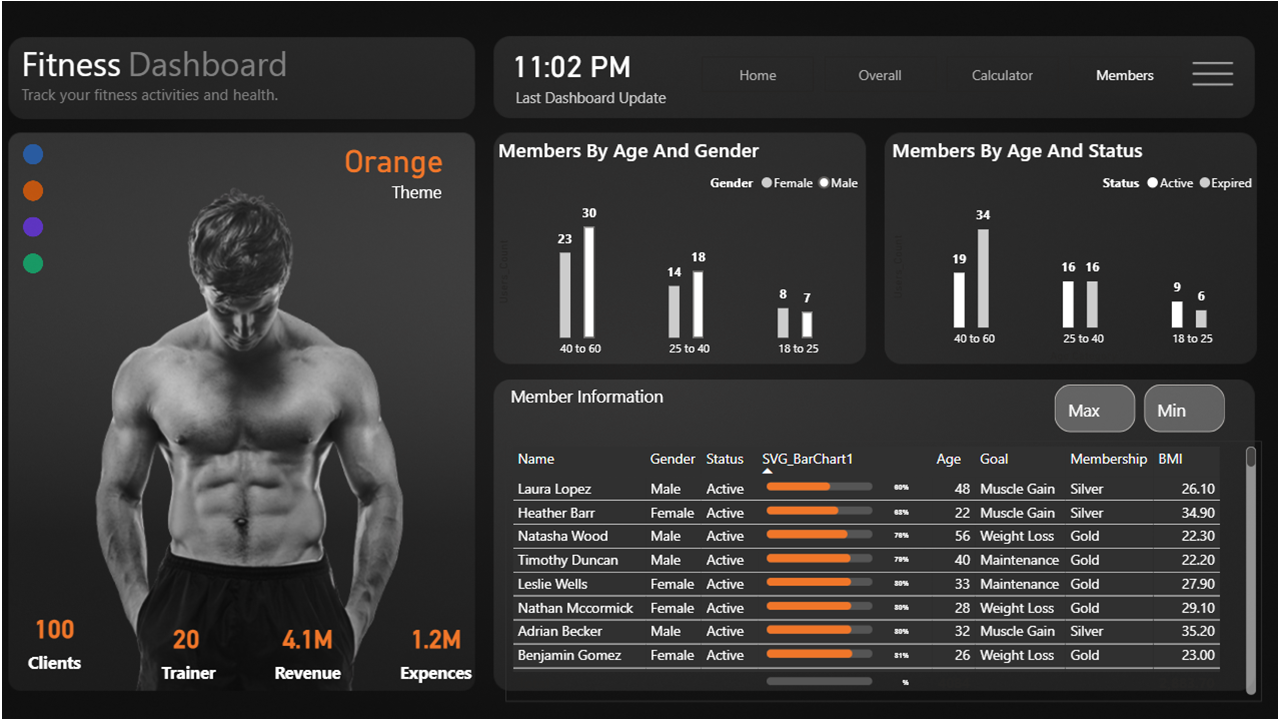

The page's visual inventory and layout, read from the dashboard file:
{"tool":"powerbi","page":{"name":"Members","canvas":[1280,720],"ordinal":3},"visuals":[{"type":"image","box":[1148.5,53.1,112.2,49.5],"z":0},{"type":"textbox","box":[526,85.7,281.1,31.4],"z":1000},{"type":"pageNavigator","box":[710.6,60.3,462.1,35],"z":2000},{"type":"textbox","box":[49.5,39.8,115.8,54.3],"z":3000},{"type":"textbox","box":[152,39.8,199.1,54.3],"z":4000},{"type":"textbox","box":[49.5,62.7,644.2,54.3],"z":5000},{"type":"card","fields":{"Values":["ColorCodes.Last_Refresh"]},"box":[521.2,42.2,127.9,51.9],"z":6000},{"type":"tableEx","title":"Client Membership","fields":{"Values":["Users.UserName","Users.Gender","Users.Status","ColorCodes.SVG_BarChart1","Sum(Users.Age)","Users.Goal","Users.Membership","Sum(Users.BMI)"]},"box":[521.2,430.7,729.9,250.9],"z":7000},{"type":"actionButton","box":[0,0,100,40],"z":8000},{"type":"textbox","box":[521.2,371.6,170.1,37.4],"z":9000},{"type":"advancedSlicerVisual","fields":{"Values":["Users.Gender"]},"box":[1046,371.6,174.9,56.7],"z":10000},{"type":"clusteredColumnChart","title":"Members By Age And Gender ","fields":{"Category":["Users.Age Category"],"Y":["ColorCodes.Users_Count"],"Series":["Users.Gender"]},"box":[509.1,137.5,361.9,222],"z":11000},{"type":"clusteredColumnChart","title":"Members By Age And Status","fields":{"Category":["Users.Age Category"],"Y":["ColorCodes.Users_Count"],"Series":["Users.Status"]},"box":[889.1,137.5,361.9,222],"z":12000},{"type":"card","fields":{"Values":["ColorCodes.Users_Count"]},"box":[41.2,576.3,90.6,91.9],"z":13000},{"type":"card","fields":{"Values":["Count(Users.Trainer Name)"]},"box":[165.6,586.7,96.5,91.7],"z":14000},{"type":"card","fields":{"Values":["ColorCodes.Revenue"]},"box":[286.3,586.7,89.3,91.7],"z":15000},{"type":"card","fields":{"Values":["ColorCodes.Expences"]},"box":[410.5,586.7,88.1,91.7],"z":16000},{"type":"advancedSlicerVisual","fields":{"Values":["ColorCodes.Icon"]},"box":[44.6,136.3,42.2,142.4],"z":17000},{"type":"card","fields":{"Values":["ColorCodes.Last_Refresh"]},"box":[360.7,143.6,127.9,42.2],"z":18000},{"type":"textbox","box":[406.6,174.9,82,35],"z":19000}]}

Visuals, with their boxes in screenshot pixels (x1, y1, x2, y2), scaled from the page's 1280x720 canvas onto the 1280x720 screenshot:
image: region(1148, 53, 1261, 103)
textbox: region(526, 86, 807, 117)
pageNavigator: region(711, 60, 1173, 95)
textbox: region(50, 40, 165, 94)
textbox: region(152, 40, 351, 94)
textbox: region(50, 63, 694, 117)
card - ColorCodes.Last_Refresh: region(521, 42, 649, 94)
"Client Membership" tableEx: region(521, 431, 1251, 682)
actionButton: region(0, 0, 100, 40)
textbox: region(521, 372, 691, 409)
advancedSlicerVisual - Users.Gender: region(1046, 372, 1221, 428)
"Members By Age And Gender " clusteredColumnChart: region(509, 138, 871, 360)
"Members By Age And Status" clusteredColumnChart: region(889, 138, 1251, 360)
card - ColorCodes.Users_Count: region(41, 576, 132, 668)
card - Count(Users.Trainer Name): region(166, 587, 262, 678)
card - ColorCodes.Revenue: region(286, 587, 376, 678)
card - ColorCodes.Expences: region(410, 587, 499, 678)
advancedSlicerVisual - ColorCodes.Icon: region(45, 136, 87, 279)
card - ColorCodes.Last_Refresh: region(361, 144, 489, 186)
textbox: region(407, 175, 489, 210)
